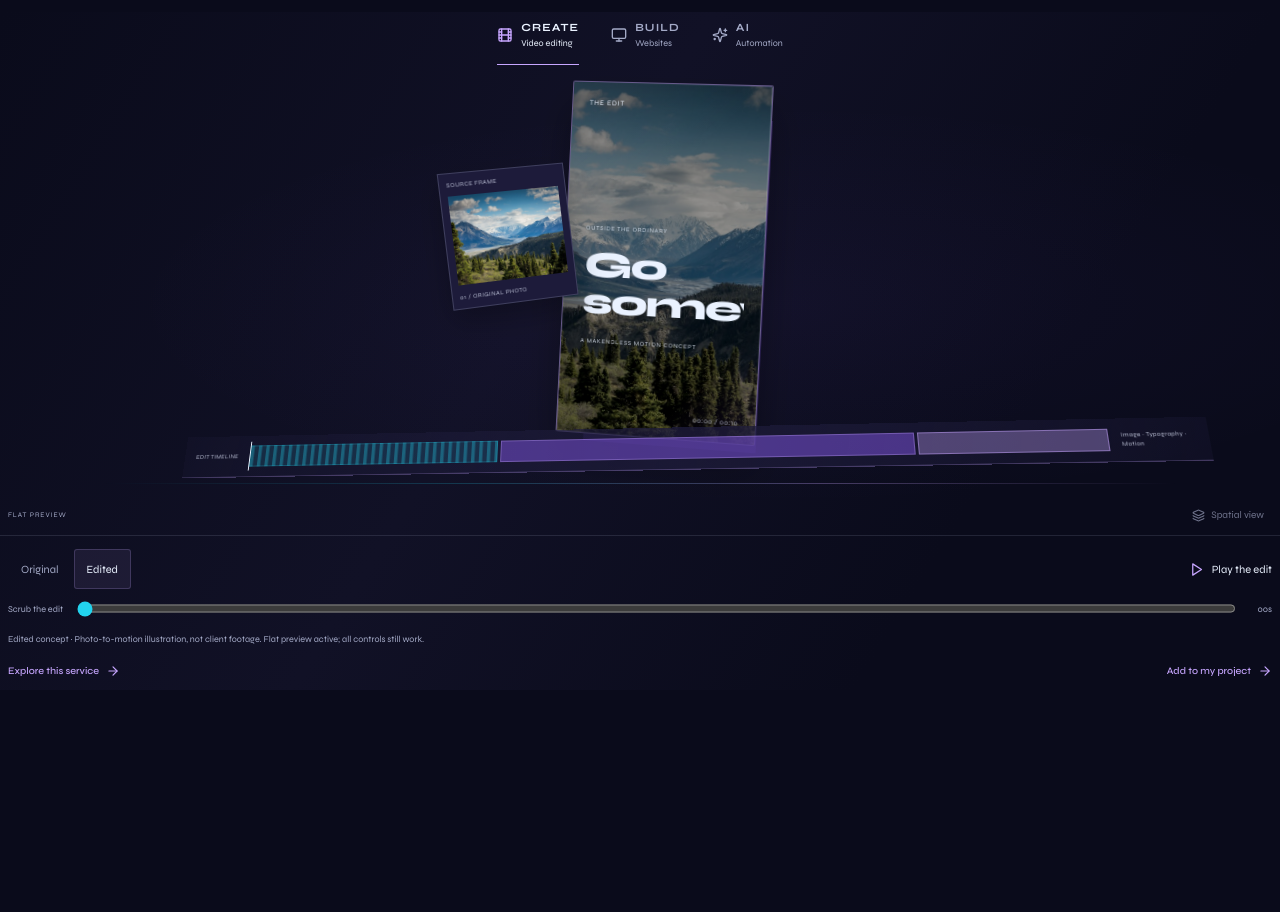
Test case: Living Showcase: service-led interactions and fallbacks › opens on CREATE and keeps a functional flat view when WebGL is unavailable
Expected: the message named "Showcase feedback" shows "Flat preview active", left=262, top=634, right=424, bottom=644
Click the button "Original" at (40, 569), box left=8, top=549, right=72, bottom=589
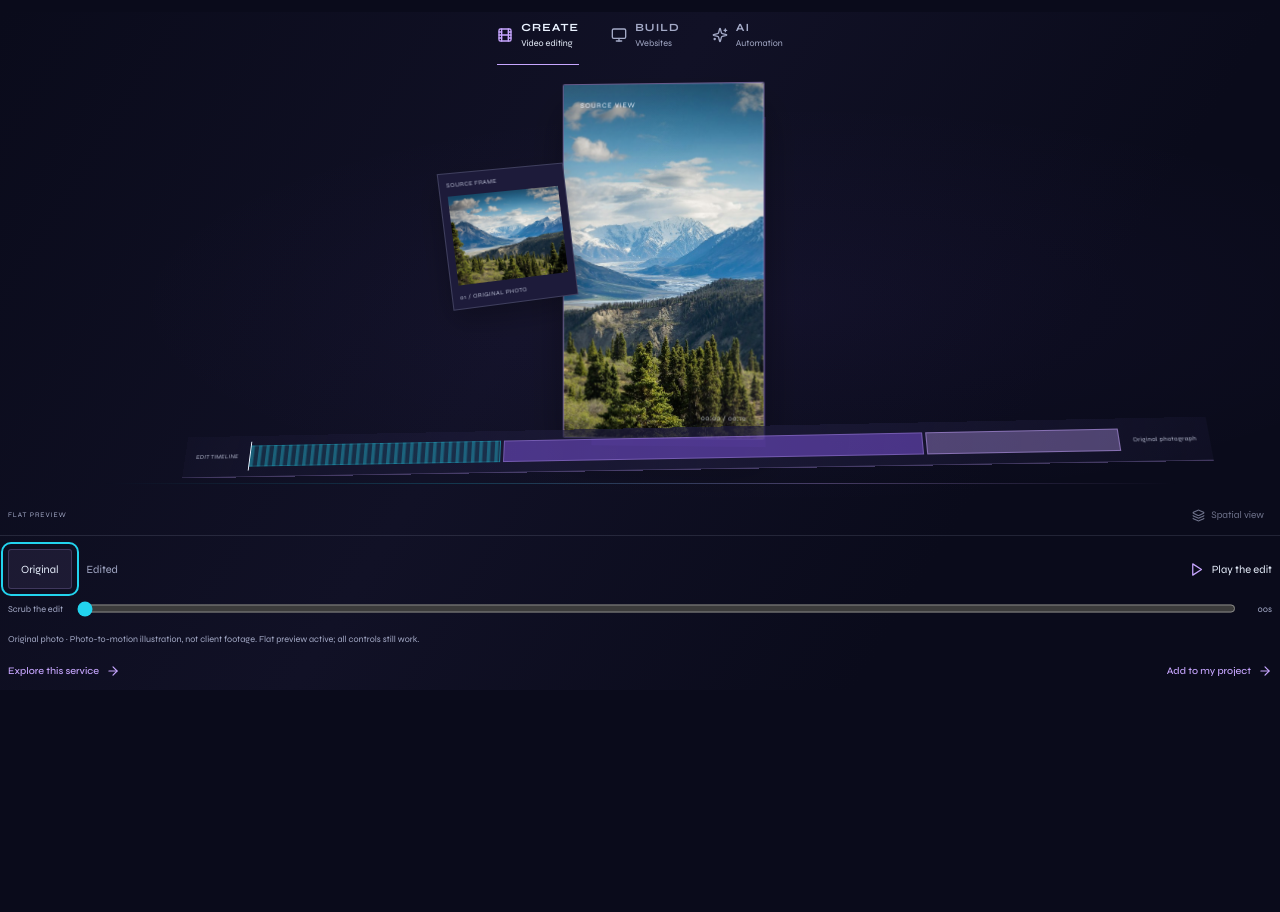
Expected: the text "SOURCE VIEW" is shown, left=580, top=101, right=635, bottom=109
Expected: the heading "Go somewhere." is gone
Click the button "Edited" at (102, 569), box left=74, top=549, right=131, bottom=589
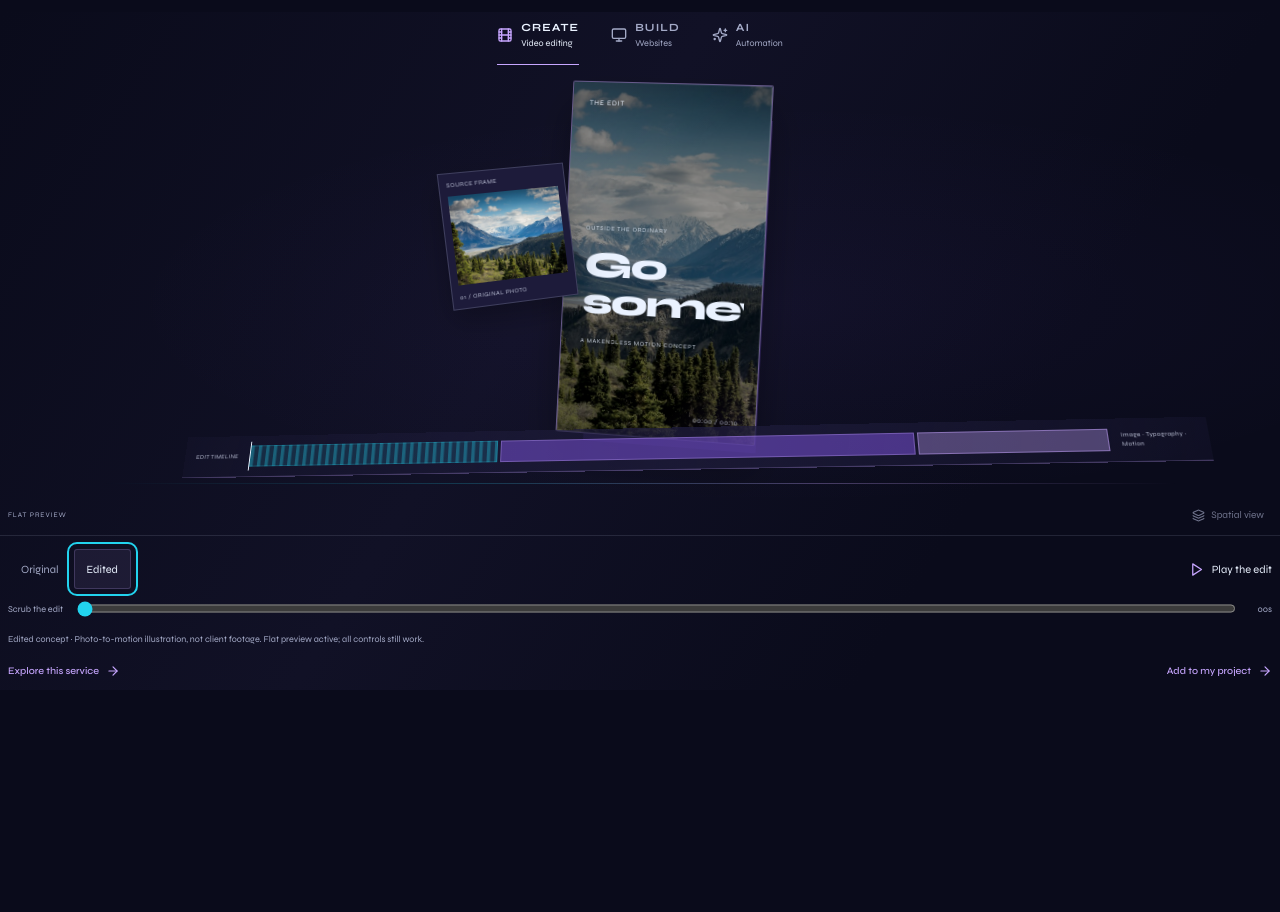
Set the slider named "Edit timeline" to "80" at (999, 608), box left=77, top=596, right=1236, bottom=621
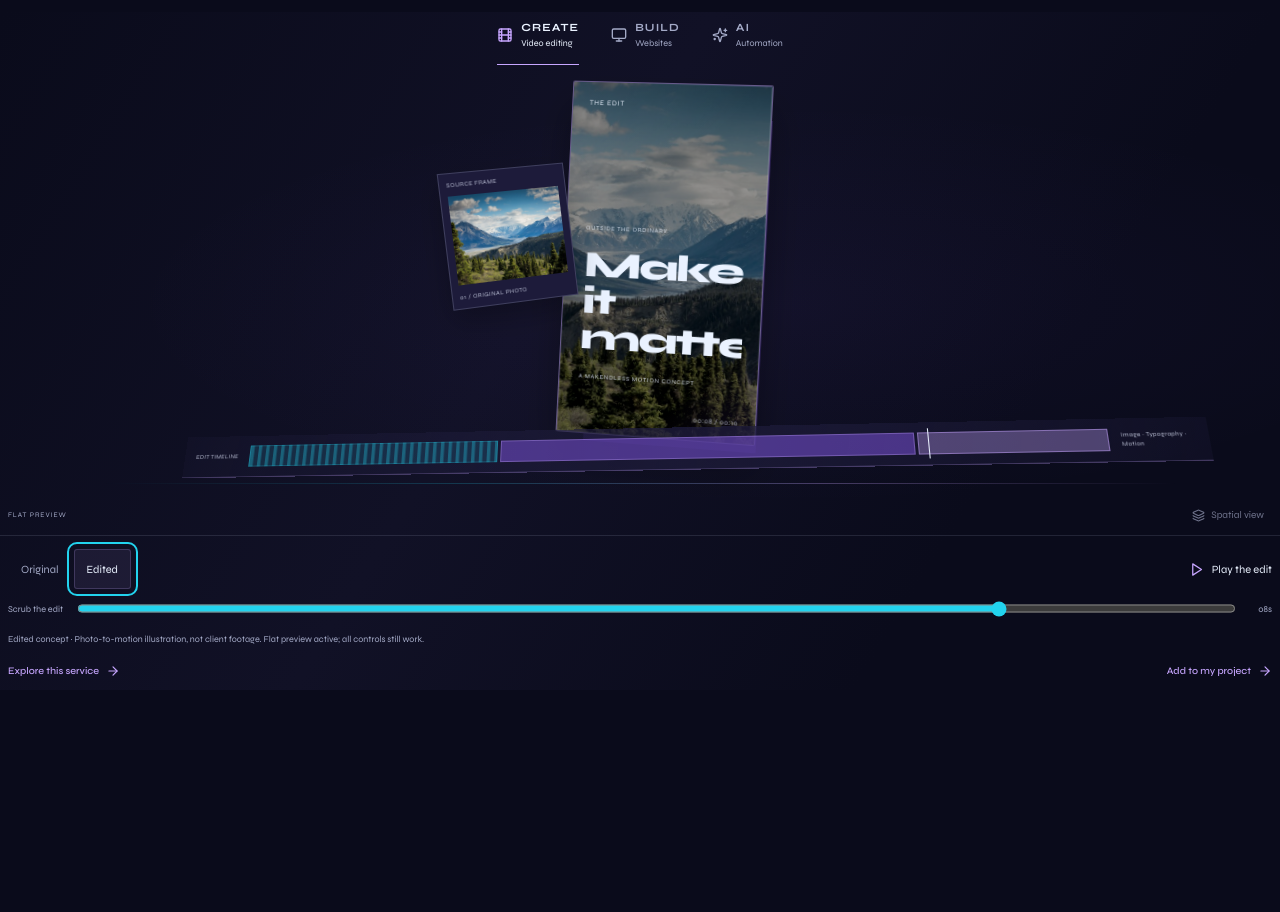
Expected: the heading "Make it matter." is shown, left=579, top=246, right=746, bottom=364
